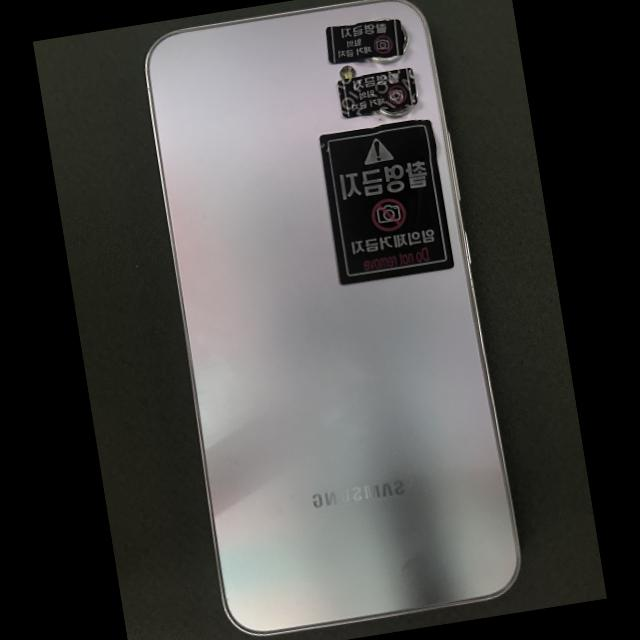lens: (376, 106, 411, 117), (370, 55, 399, 62)
phone: (145, 0, 518, 633)
sticker: (320, 119, 455, 284), (337, 67, 418, 118), (326, 19, 405, 64)
